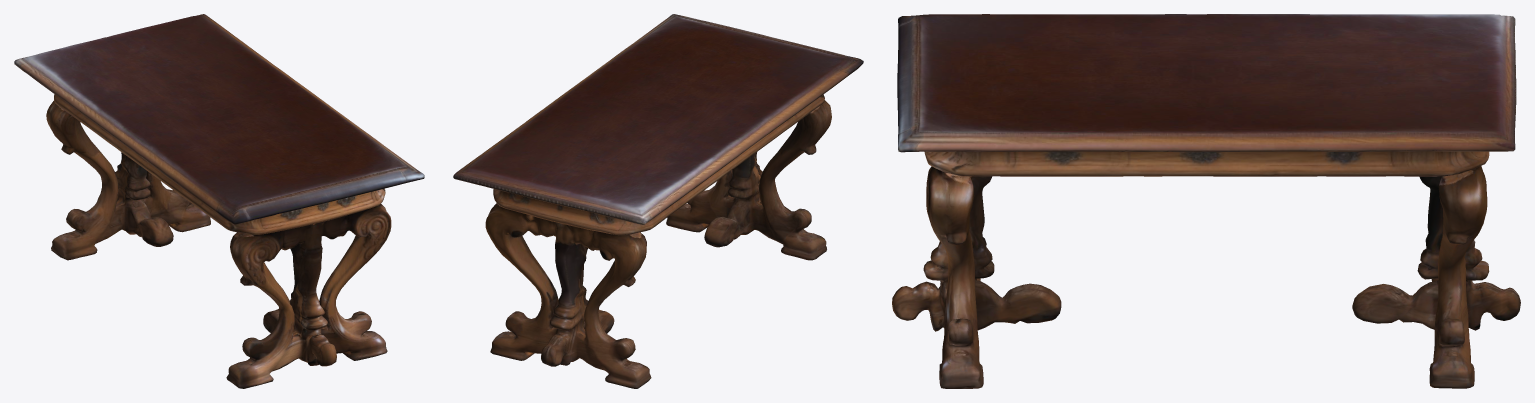
3 views of the same model, side by side, from view 1: azimuth 30°, elevation 25°; view 2: azimuth 150°, elevation 25°; view 3: azimuth 270°, elevation 25° (orthographic). The views are drawn at different scales.
Visible parts, largest first — view 1: Mesh1.0; view 2: Mesh1.0; view 3: Mesh1.0.
Part boxes in pixels (x1=…): Mesh1.0: x1=14, y1=14, x2=424, y2=388; Mesh1.0: x1=453, y1=14, x2=863, y2=388; Mesh1.0: x1=892, y1=14, x2=1520, y2=388.
Size of the model in its own units: 98.86 by 93.37 by 200.
Materials: 1 (1 with a texture image).
